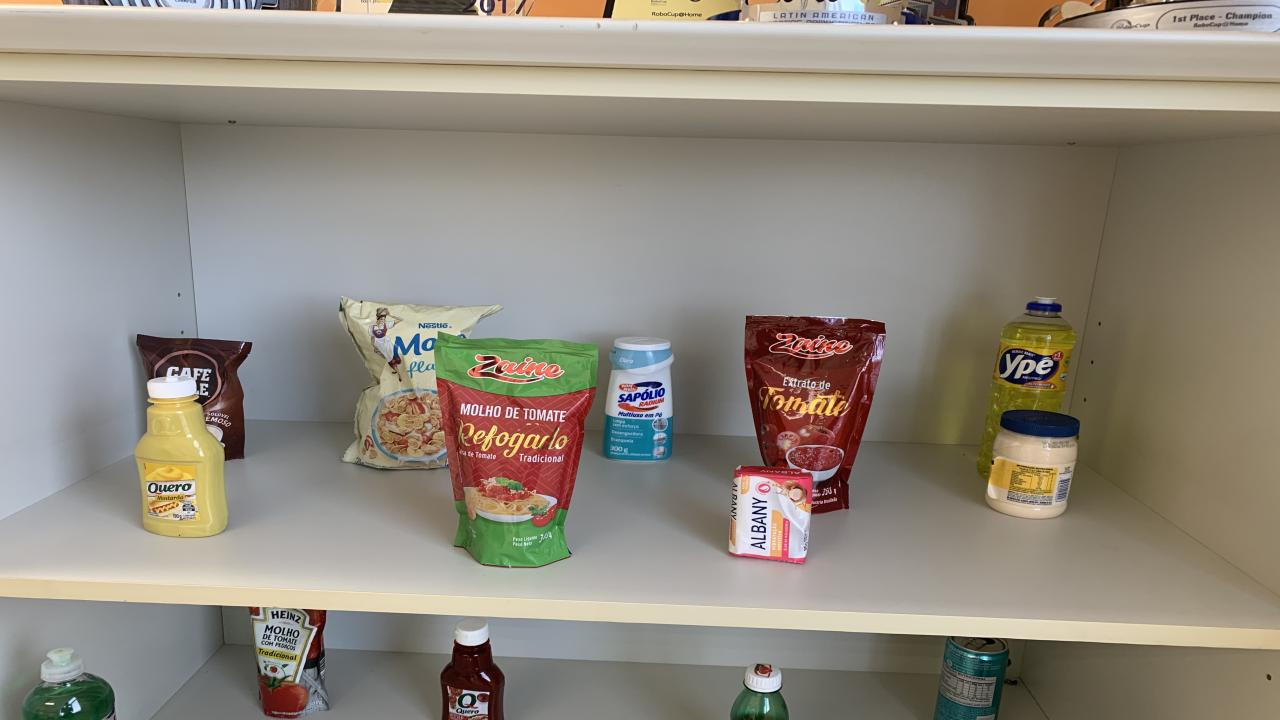Cleaner-Cleanup_Items: (602, 336, 675, 461)
Coffee-Pantry_Items: (138, 334, 252, 459)
Detergent-Cleanup_Items: (978, 298, 1075, 478), (22, 647, 115, 720)
Flakes-Snacks: (340, 296, 500, 469)
Guarana-Drinks: (730, 664, 788, 720)
Ketchup-Pantry_Items: (440, 617, 505, 720)
Mayonnaise-Pantry_Items: (988, 411, 1078, 518)
Mustard-Pantry_Items: (135, 375, 228, 536)
Soap-Cleanup_Items: (728, 467, 812, 562)
Tea-Drinks: (935, 636, 1010, 720)
Tomato_Sauce-Pantry_Items: (435, 334, 598, 566), (745, 315, 885, 512), (250, 608, 330, 718)
